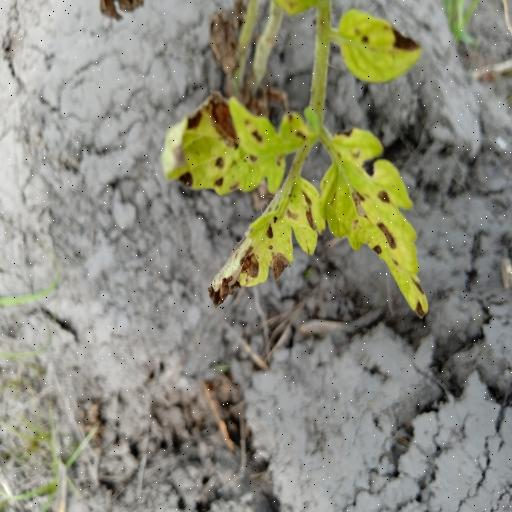Tomato_Brown_Spots: (322, 122, 430, 320), (159, 87, 318, 204), (204, 165, 324, 312), (326, 8, 428, 89)
